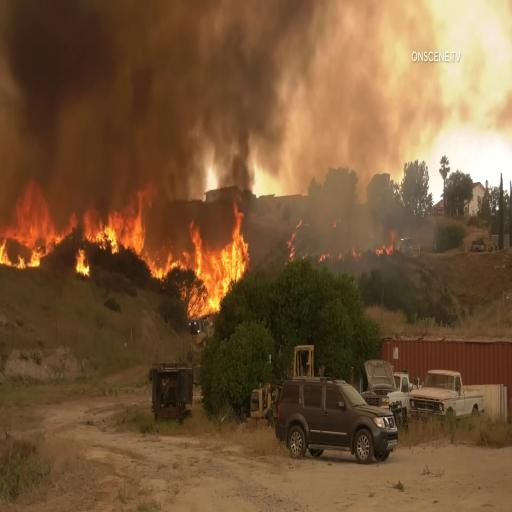fire: (180, 200, 242, 320), (11, 178, 73, 265), (87, 186, 156, 256)
smoke: (8, 12, 122, 168)
